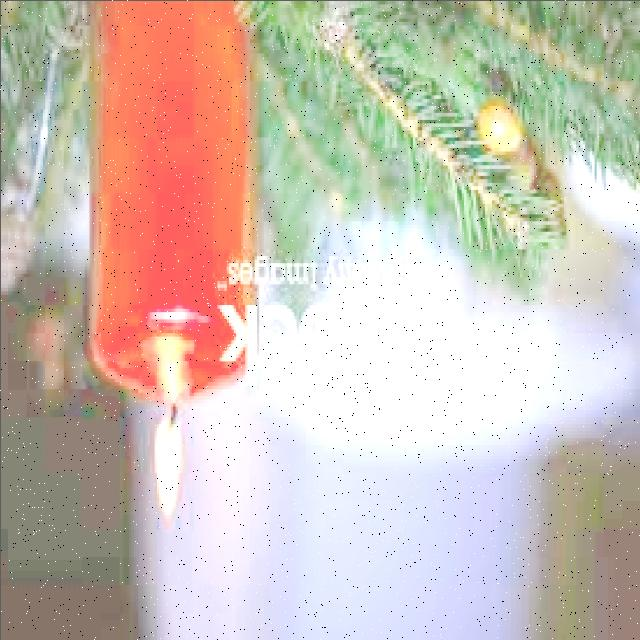api: (143, 410, 187, 526)
